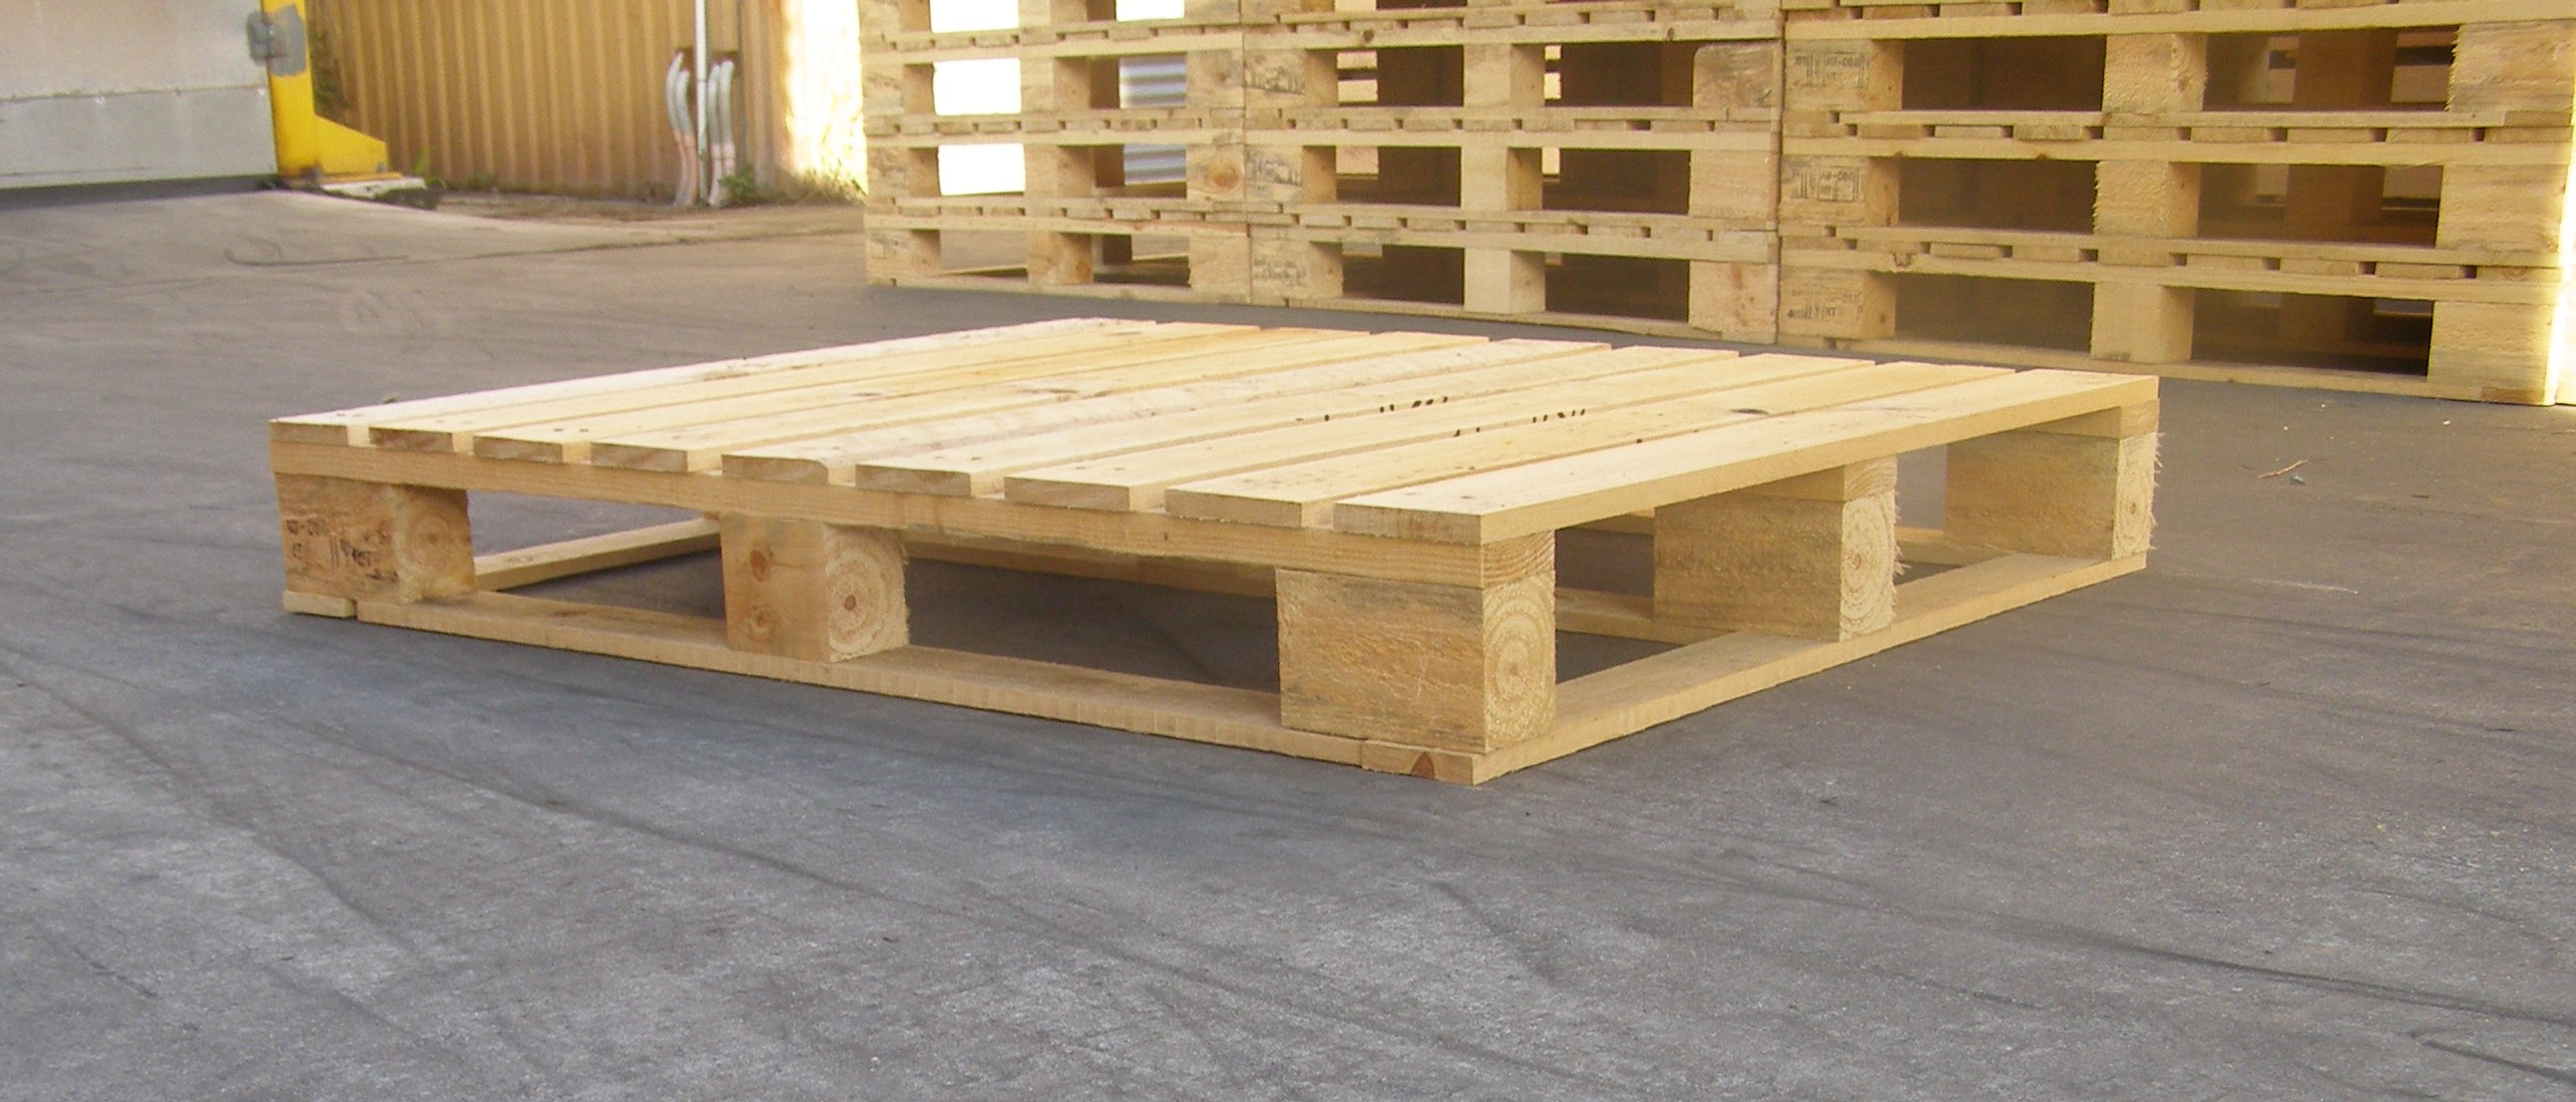pallet: (250, 255, 2185, 841)
